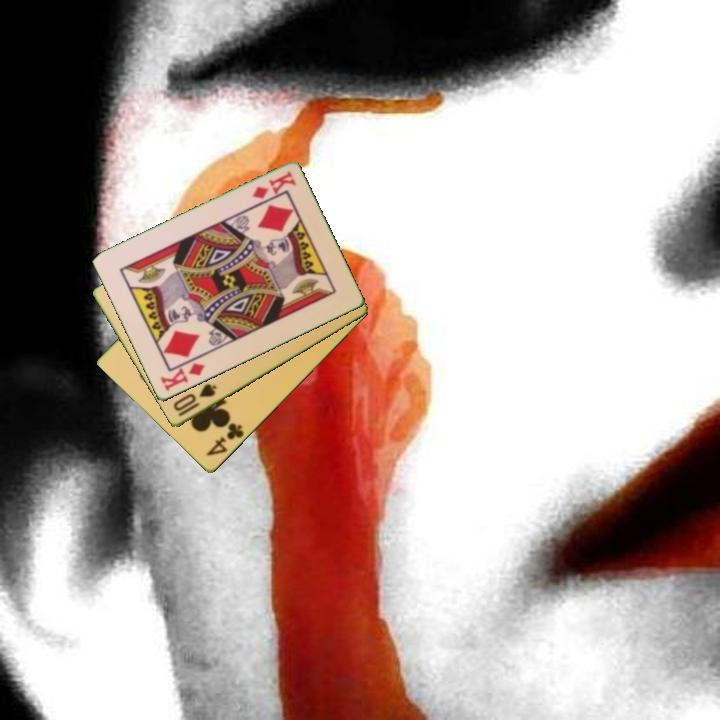10s: (170, 380, 220, 420)
4c: (203, 420, 247, 460)
Kd: (157, 360, 208, 395), (248, 168, 299, 202)
